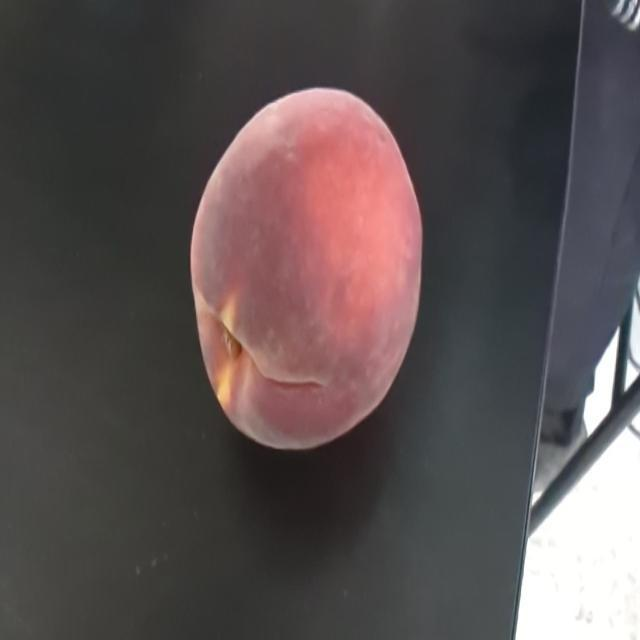Persik: (158, 53, 450, 480)
